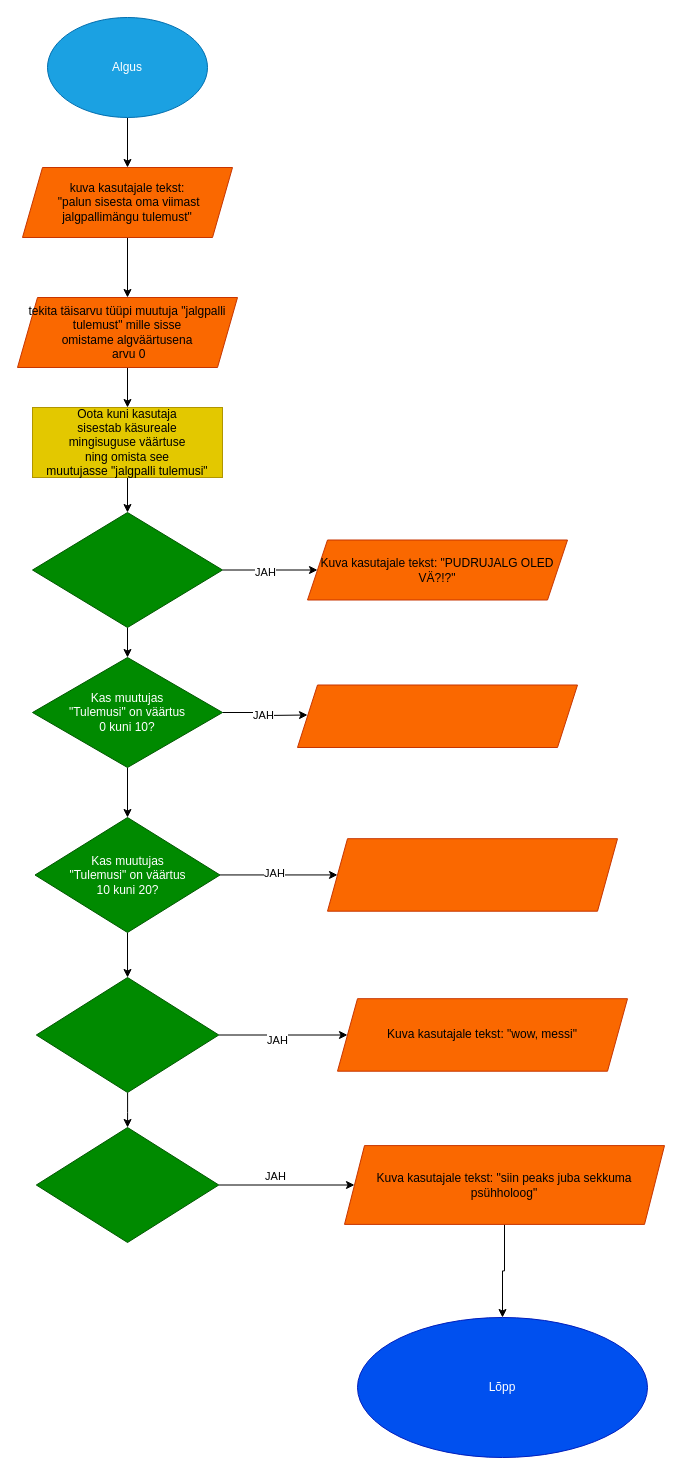
The diagram is 682 pixels wide and 1475 high, and some of its shapes have lost their labels. Each missing label, with the centre of its shape:
Kas muutujas "Tulemusi" on väärtus 20 kuni 40?: (x=127, y=1034)
Kas muutujas "Tulemusi" on väärtus rohkem kui 40?: (x=127, y=1184)
Kas muutujas "tulemusi" on väärtus võrdne 0?: (x=127, y=570)
Kuva kasutajale tekst: "no see juba on parem": (x=472, y=874)
Kuva kasutajale tekst: "täitsa ok": (x=437, y=716)
